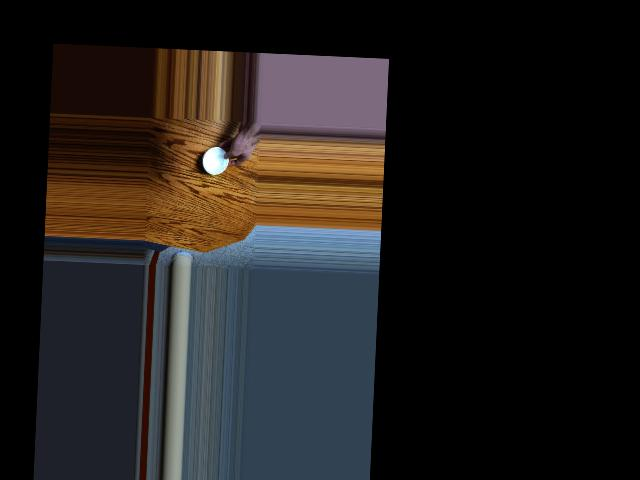cotage: (201, 142, 233, 178)
